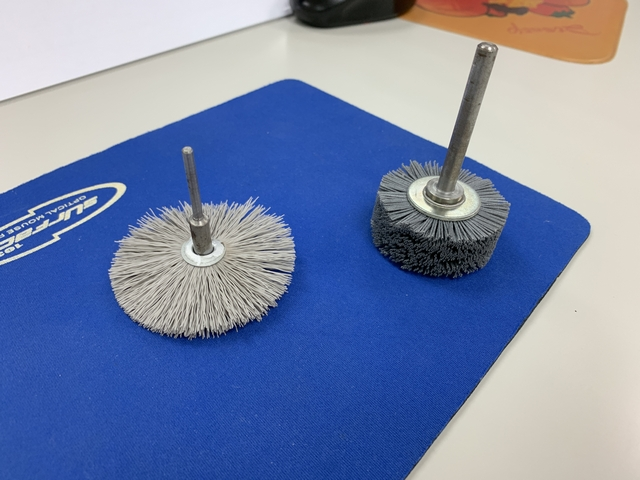TOOL: (96, 138, 307, 330), (91, 135, 309, 298), (145, 136, 314, 335), (96, 134, 244, 339)
Wheel Brush: (355, 15, 514, 290), (355, 15, 502, 266), (352, 11, 470, 286), (399, 16, 512, 290)
